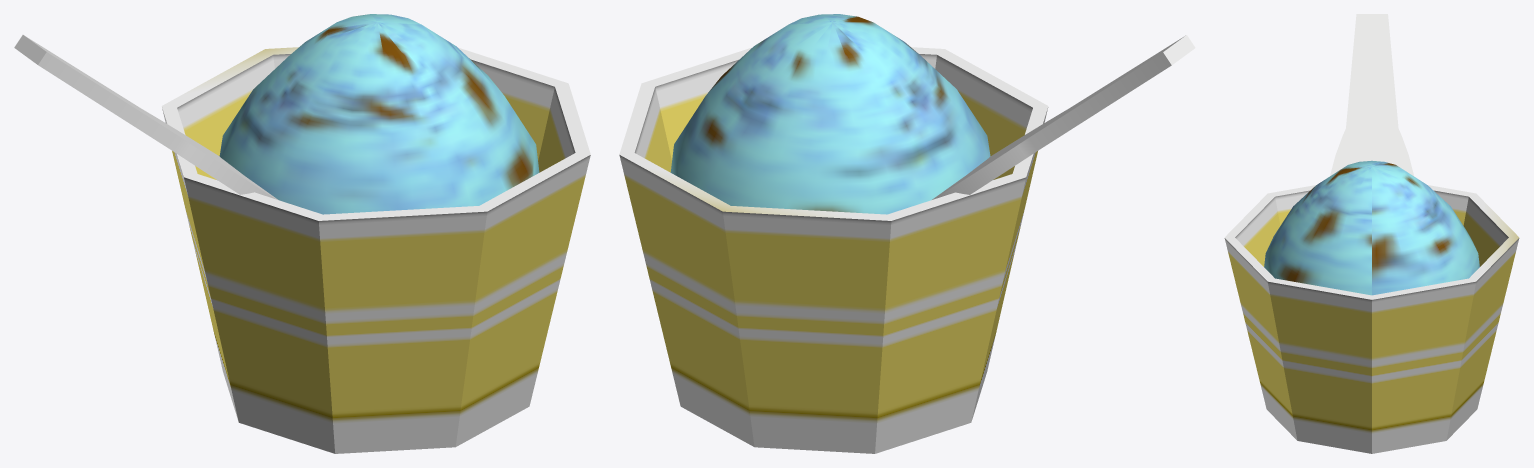
File: IceCream_CupF.fbx
The picture shows the model from 3 angles, left to right: view 1: azimuth 30°, elevation 25°; view 2: azimuth 150°, elevation 25°; view 3: azimuth 270°, elevation 25°; orthographic projection. The views are drawn at different scales.
Visible parts, largest first — view 1: IceCupF, IceCream_CupF, IceCreamSpoonF; view 2: IceCupF, IceCream_CupF, IceCreamSpoonF; view 3: IceCupF, IceCream_CupF, IceCreamSpoonF.
Part boxes in pixels (left/top/right/bottom): IceCupF: left=161, top=47, right=590, bottom=453; IceCream_CupF: left=219, top=14, right=539, bottom=214; IceCreamSpoonF: left=14, top=35, right=277, bottom=199; IceCupF: left=619, top=47, right=1048, bottom=453; IceCream_CupF: left=670, top=14, right=990, bottom=214; IceCreamSpoonF: left=932, top=35, right=1195, bottom=199; IceCupF: left=1224, top=185, right=1519, bottom=453; IceCream_CupF: left=1264, top=160, right=1479, bottom=295; IceCreamSpoonF: left=1330, top=14, right=1414, bottom=176.
Size of the model in its own units: 163 by 123 by 115.
